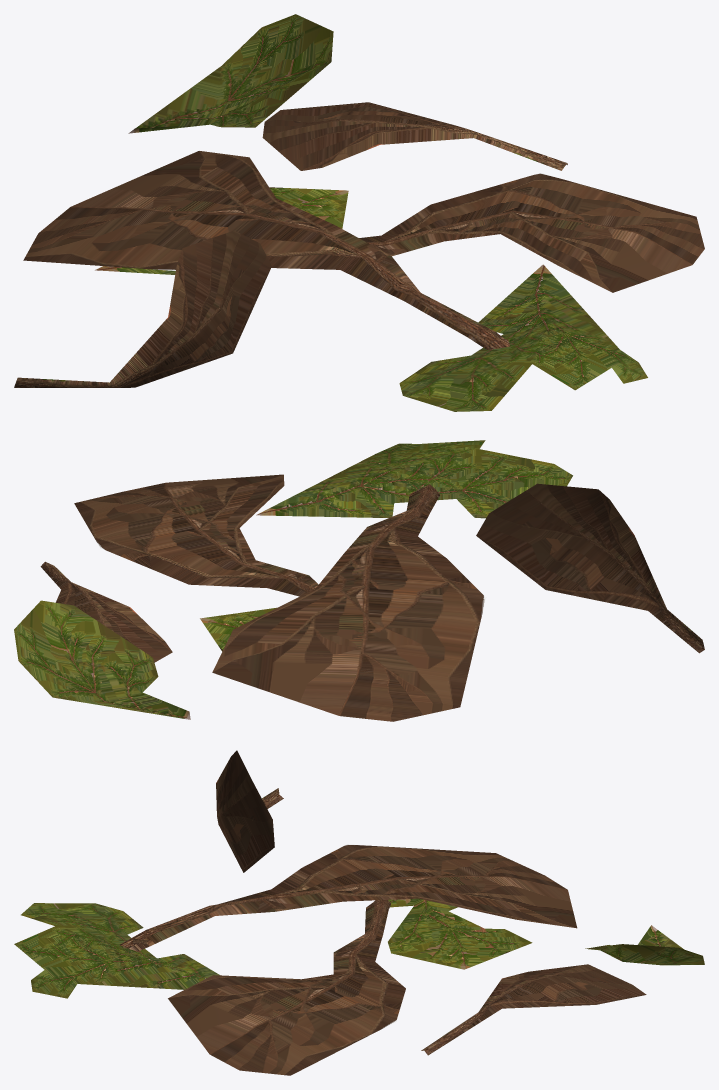
The model's file is dead_branch_01.obj.
3 views of the same model, one above another, from view 1: azimuth 30°, elevation 25°; view 2: azimuth 150°, elevation 25°; view 3: azimuth 270°, elevation 25° (orthographic). The views are drawn at different scales.
Visible parts, largest first — view 1: Dead_Branch_01; view 2: Dead_Branch_01; view 3: Dead_Branch_01.
Part boxes in pixels (box(x1,y1,x2,y2)): Dead_Branch_01: box(14, 14, 704, 411); Dead_Branch_01: box(14, 440, 704, 721); Dead_Branch_01: box(14, 750, 704, 1075).
Bounding box in the file's own units: 2.35 × 0.4256 × 2.45.
Materials: 1 (1 with a texture image).
